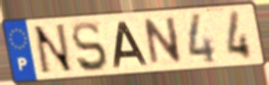4: (186, 12, 220, 66), (224, 8, 254, 63)
A: (111, 21, 151, 69)
N: (31, 22, 76, 78), (142, 15, 184, 68)
S: (70, 20, 110, 74)
